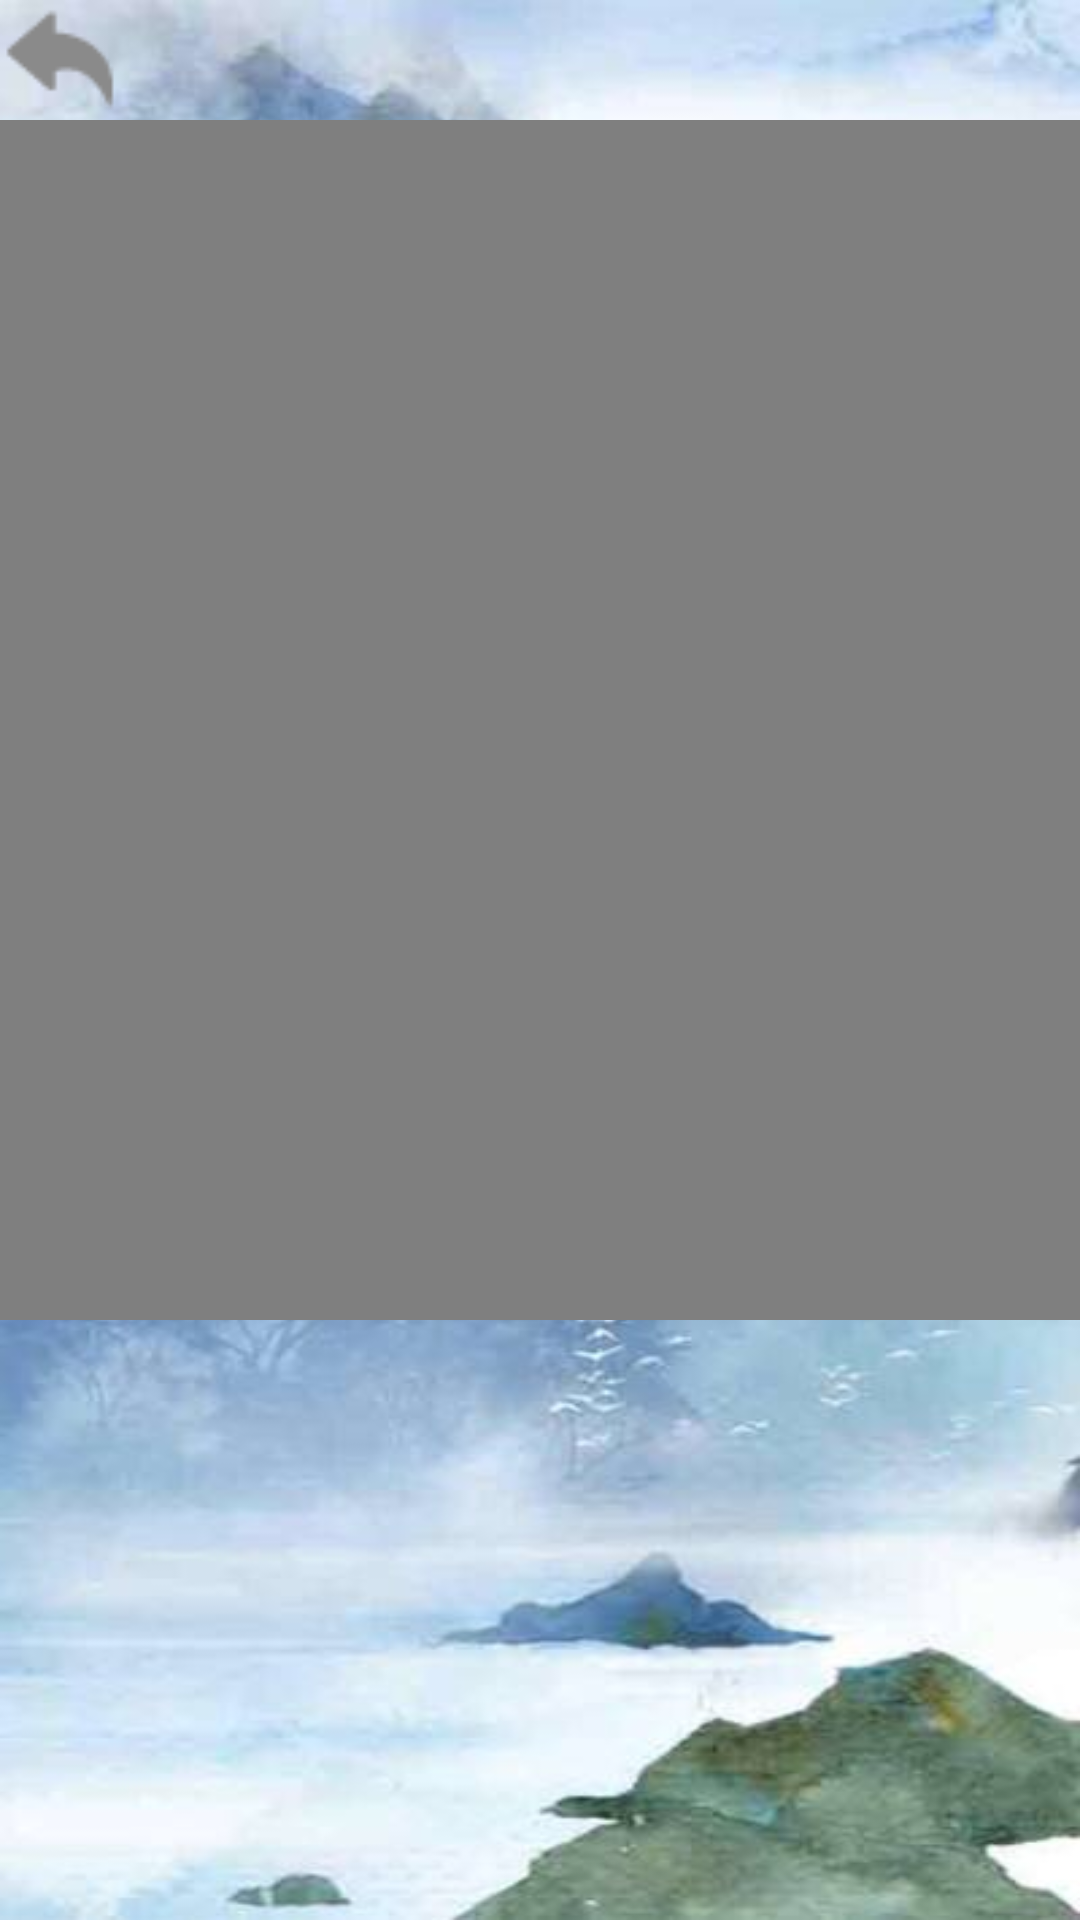

Where to tap for icons on this 1080 × 1920 app screen, as (x,y):
back: (60,60)
